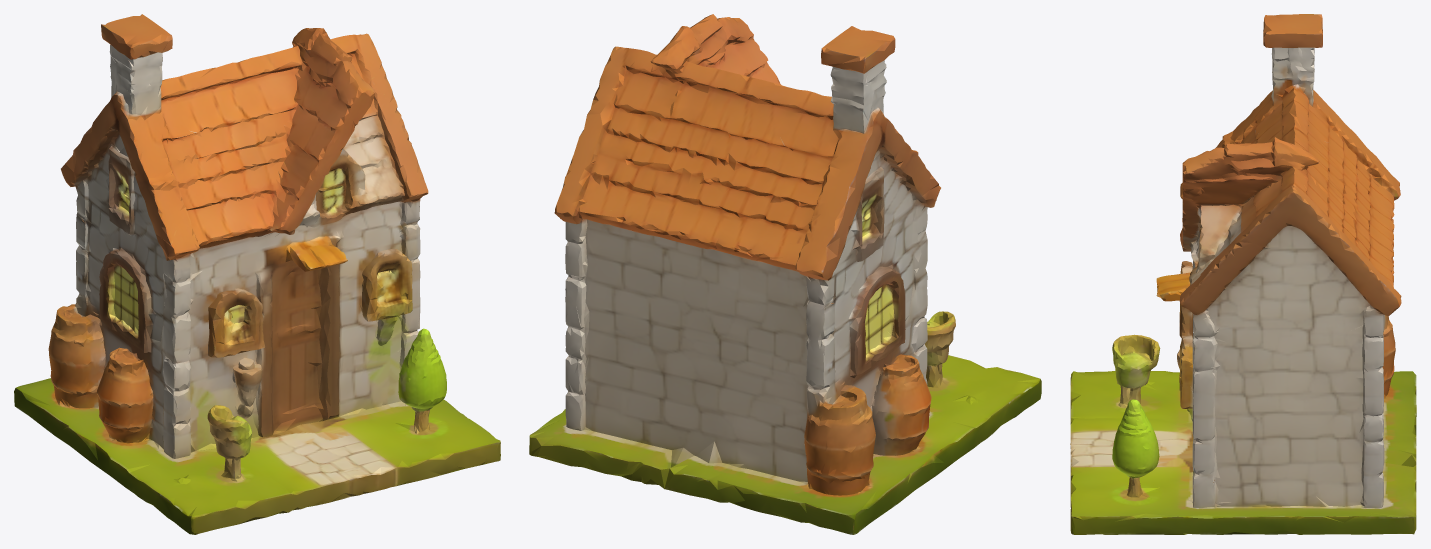
Rendered from apothecary.glb.
3 views of the same model, side by side, from view 1: azimuth 30°, elevation 25°; view 2: azimuth 150°, elevation 25°; view 3: azimuth 270°, elevation 25° (orthographic). The views are drawn at different scales.
Visible parts, largest first — view 1: Apothecary; view 2: Apothecary; view 3: Apothecary.
Part boxes in pixels (bbox=[...]): Apothecary: bbox=[14, 14, 500, 534]; Apothecary: bbox=[529, 14, 1041, 534]; Apothecary: bbox=[1070, 14, 1416, 534].
Size of the model in its own units: 1.51 by 1.9 by 1.51.
Materials: 1 (1 with a texture image).
